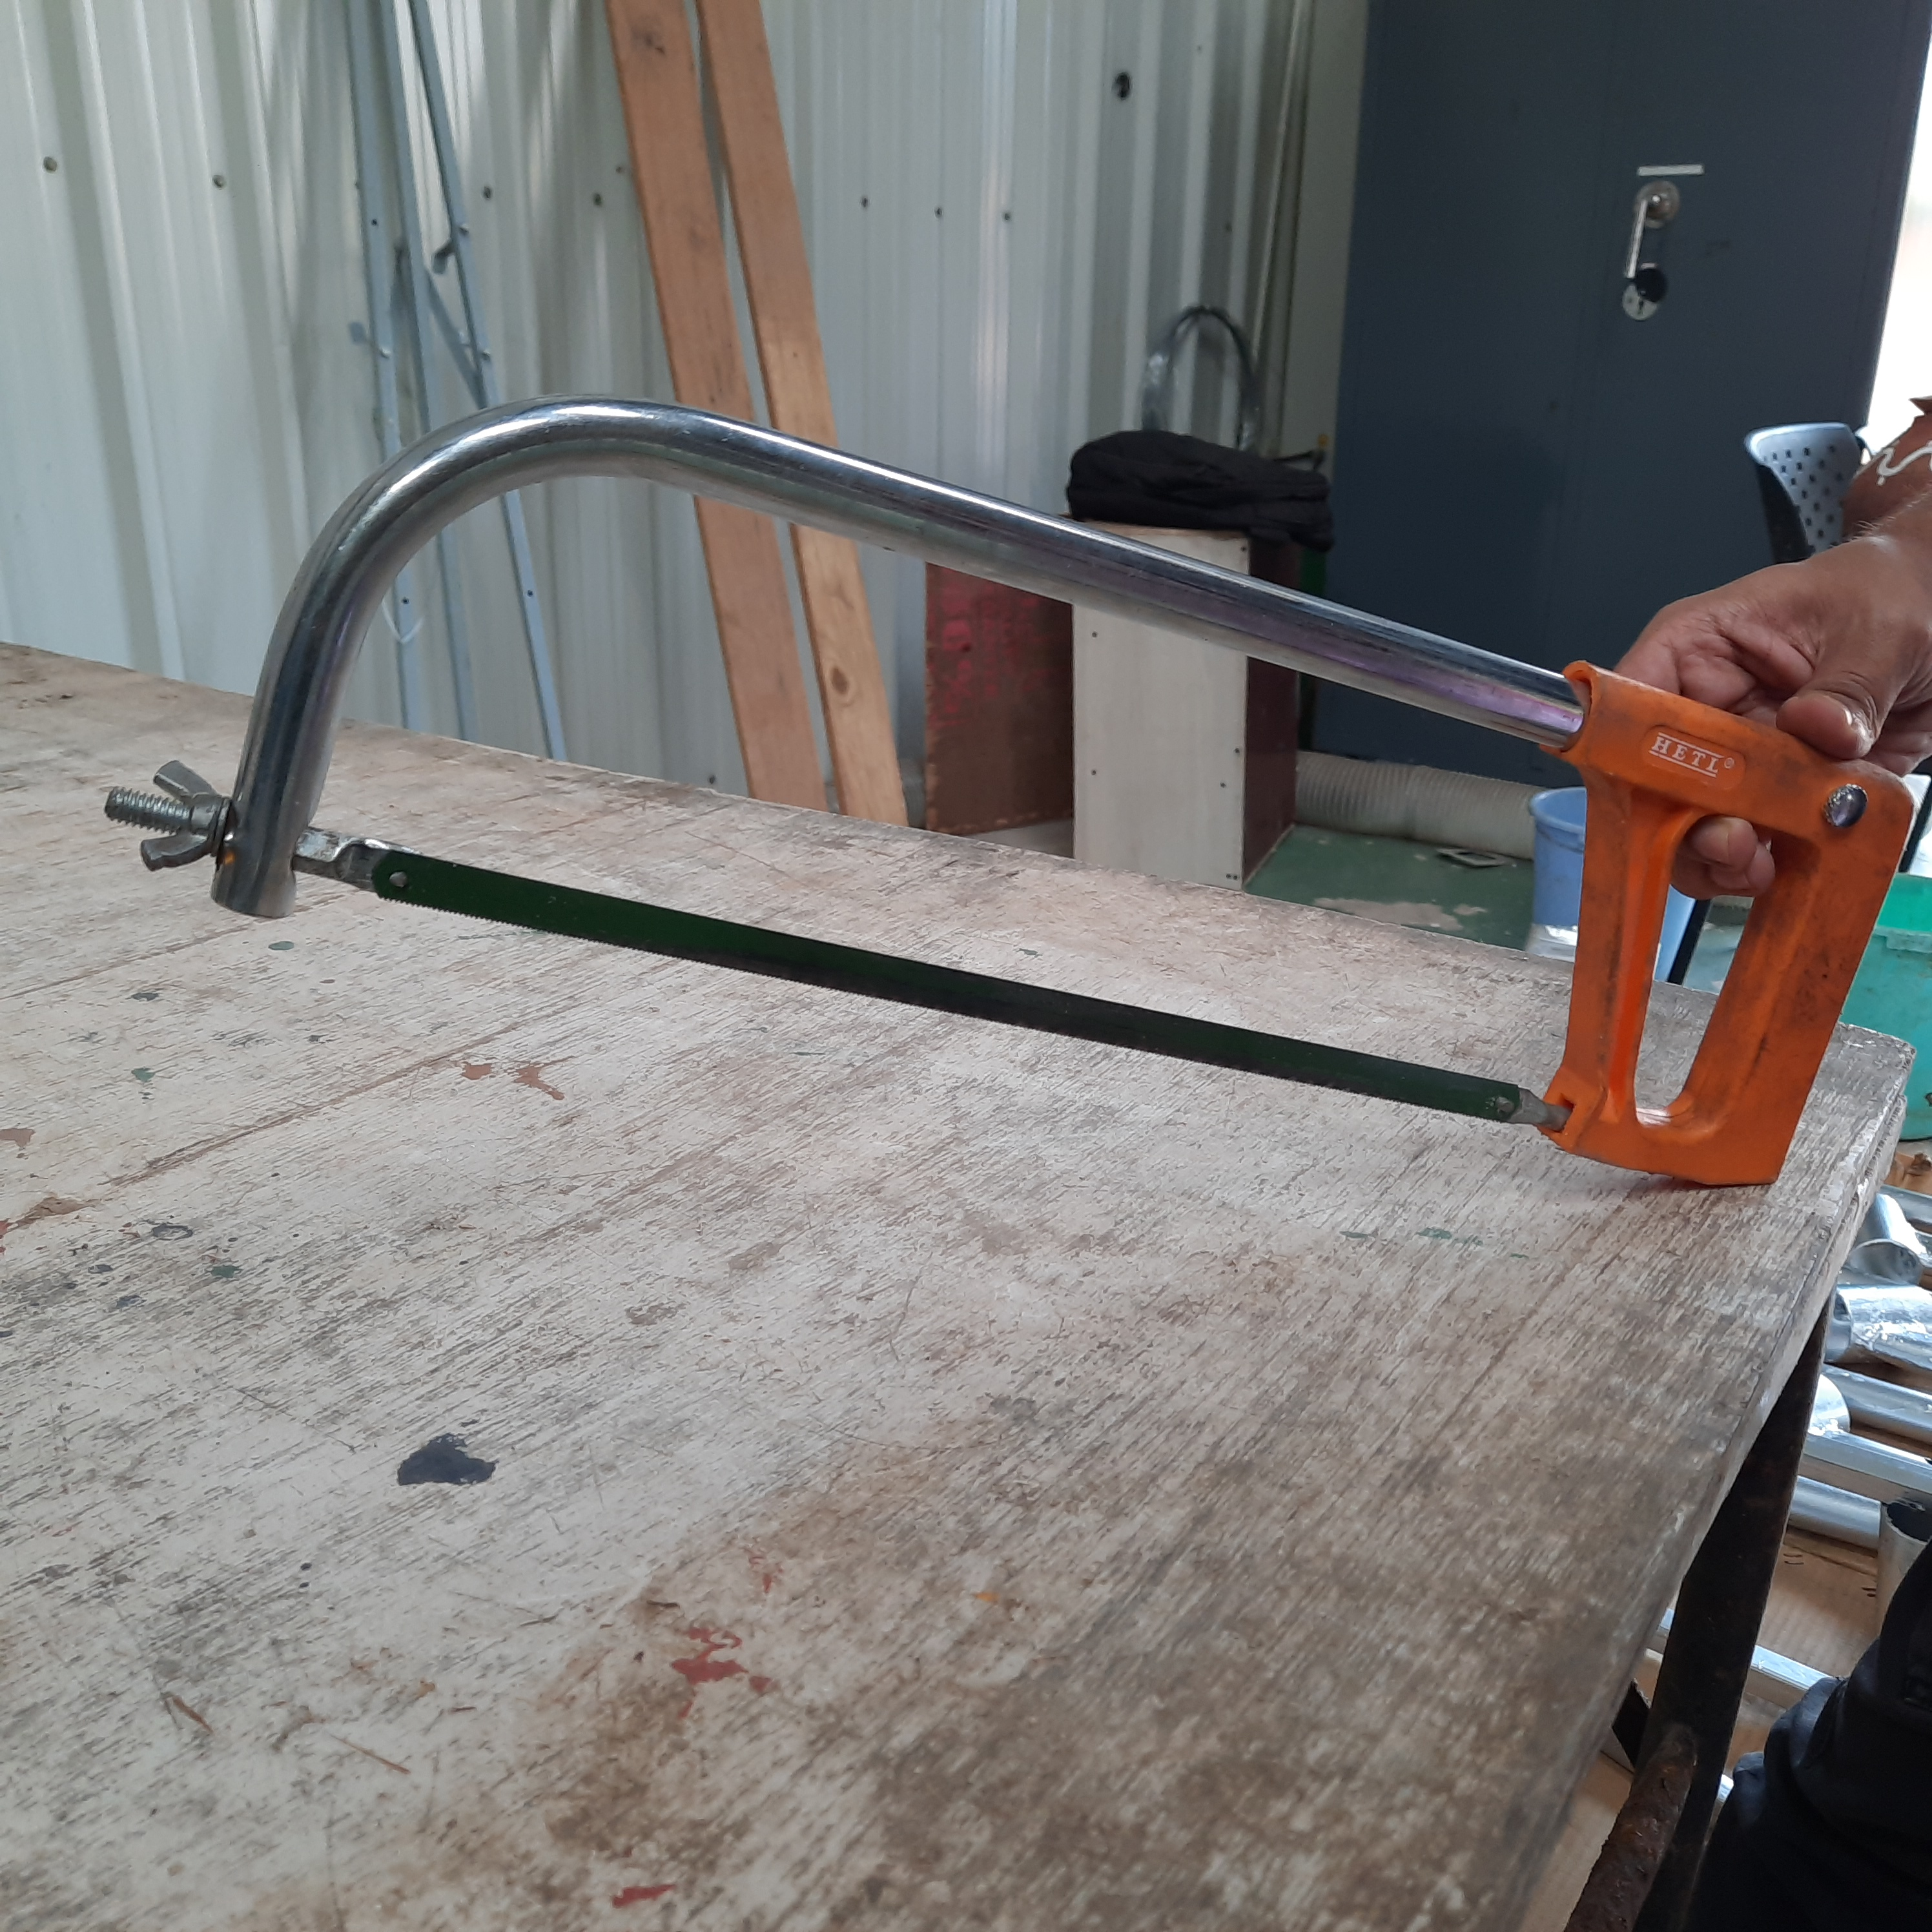Hexaframe: (71, 322, 1914, 1215)
